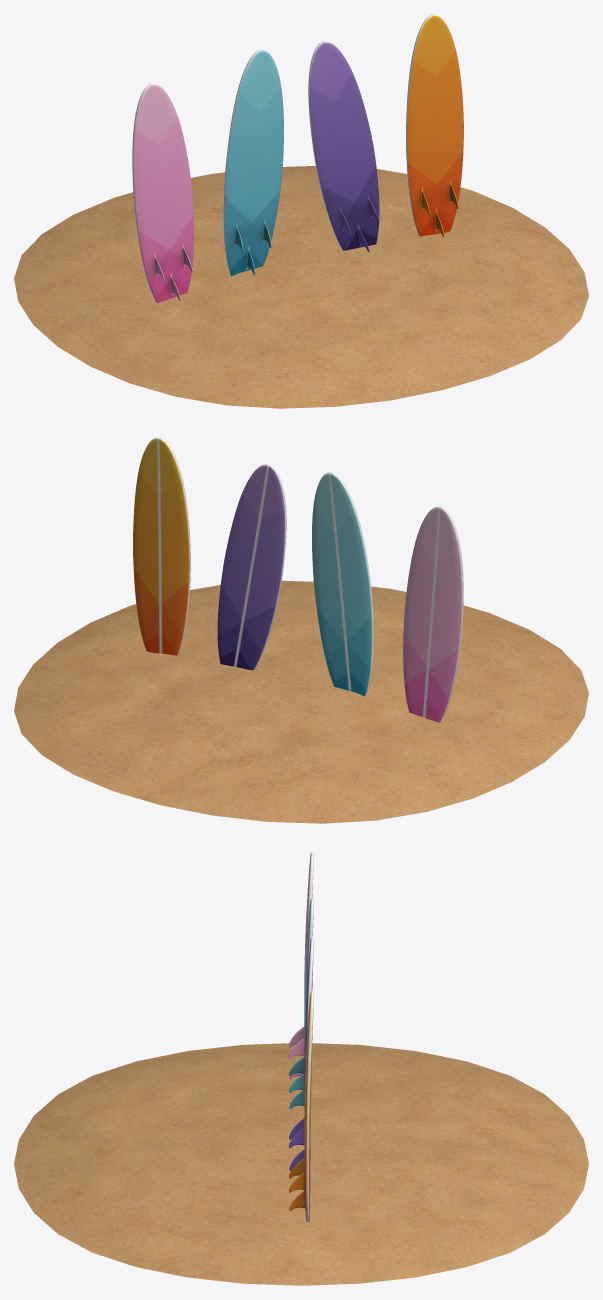
3 renders of one model, top to bottom at view 1: azimuth 30°, elevation 25°; view 2: azimuth 150°, elevation 25°; view 3: azimuth 270°, elevation 25°, orthographic. The views are drawn at different scales.
Parts seen in each view (by area): view 1: Sand, Surfboard_03_Surfboard_03_0, Surfboard_01_Surfboard_01_0, Surfboard_04_Surfboard_04_0, Surfboard_02_Surfboard_02_0; view 2: Sand, Surfboard_03_Surfboard_03_0, Surfboard_01_Surfboard_01_0, Surfboard_04_Surfboard_04_0, Surfboard_02_Surfboard_02_0; view 3: Sand, Surfboard_01_Surfboard_01_0, Surfboard_03_Surfboard_03_0, Surfboard_02_Surfboard_02_0, Surfboard_04_Surfboard_04_0.
Boxes of the visible parts, box(x1,y1,x2,y2) form: Sand: box(14, 166, 588, 408); Surfboard_03_Surfboard_03_0: box(223, 49, 283, 276); Surfboard_01_Surfboard_01_0: box(406, 14, 463, 237); Surfboard_04_Surfboard_04_0: box(132, 83, 193, 302); Surfboard_02_Surfboard_02_0: box(308, 41, 379, 252); Sand: box(14, 580, 588, 823); Surfboard_03_Surfboard_03_0: box(312, 472, 373, 696); Surfboard_01_Surfboard_01_0: box(133, 437, 190, 655); Surfboard_04_Surfboard_04_0: box(403, 506, 463, 722); Surfboard_02_Surfboard_02_0: box(217, 464, 286, 670); Sand: box(14, 1043, 588, 1285); Surfboard_01_Surfboard_01_0: box(289, 991, 313, 1222); Surfboard_03_Surfboard_03_0: box(289, 898, 313, 1108); Surfboard_02_Surfboard_02_0: box(289, 937, 313, 1170); Surfboard_04_Surfboard_04_0: box(289, 852, 313, 1079).
Size of the model in its own units: 4.31 by 2.05 by 4.31.
